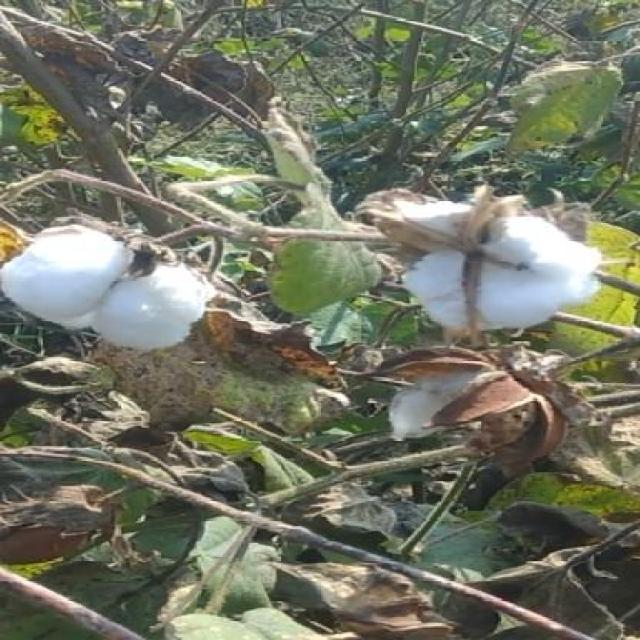cotton_ready: (379, 178, 606, 353), (11, 207, 224, 367)
